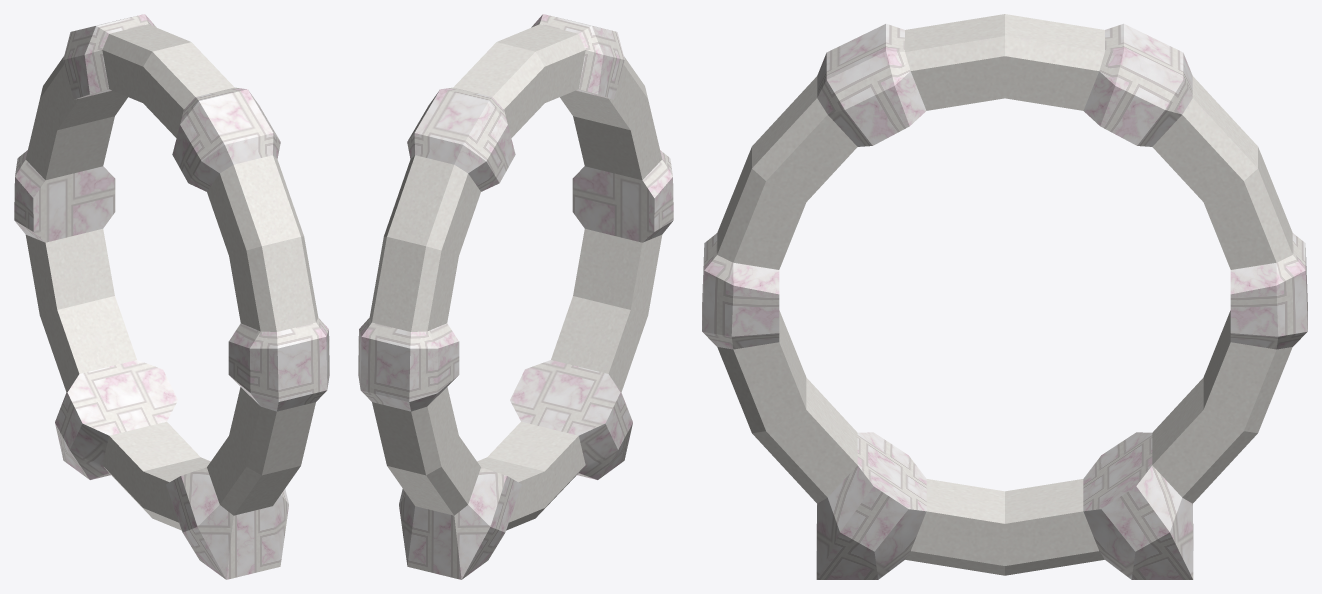
Rendered from en_portal_02.fbx.
The picture shows the model from 3 angles, left to right: view 1: azimuth 30°, elevation 25°; view 2: azimuth 150°, elevation 25°; view 3: azimuth 270°, elevation 25°; orthographic projection. The views are drawn at different scales.
Parts seen in each view (by area): view 1: portal1; view 2: portal1; view 3: portal1.
Part boxes in pixels (x1=…): portal1: x1=14, y1=14, x2=329, y2=579; portal1: x1=358, y1=14, x2=673, y2=579; portal1: x1=702, y1=14, x2=1307, y2=579.
Size of the model in its own units: 86.45 by 404 by 411.
